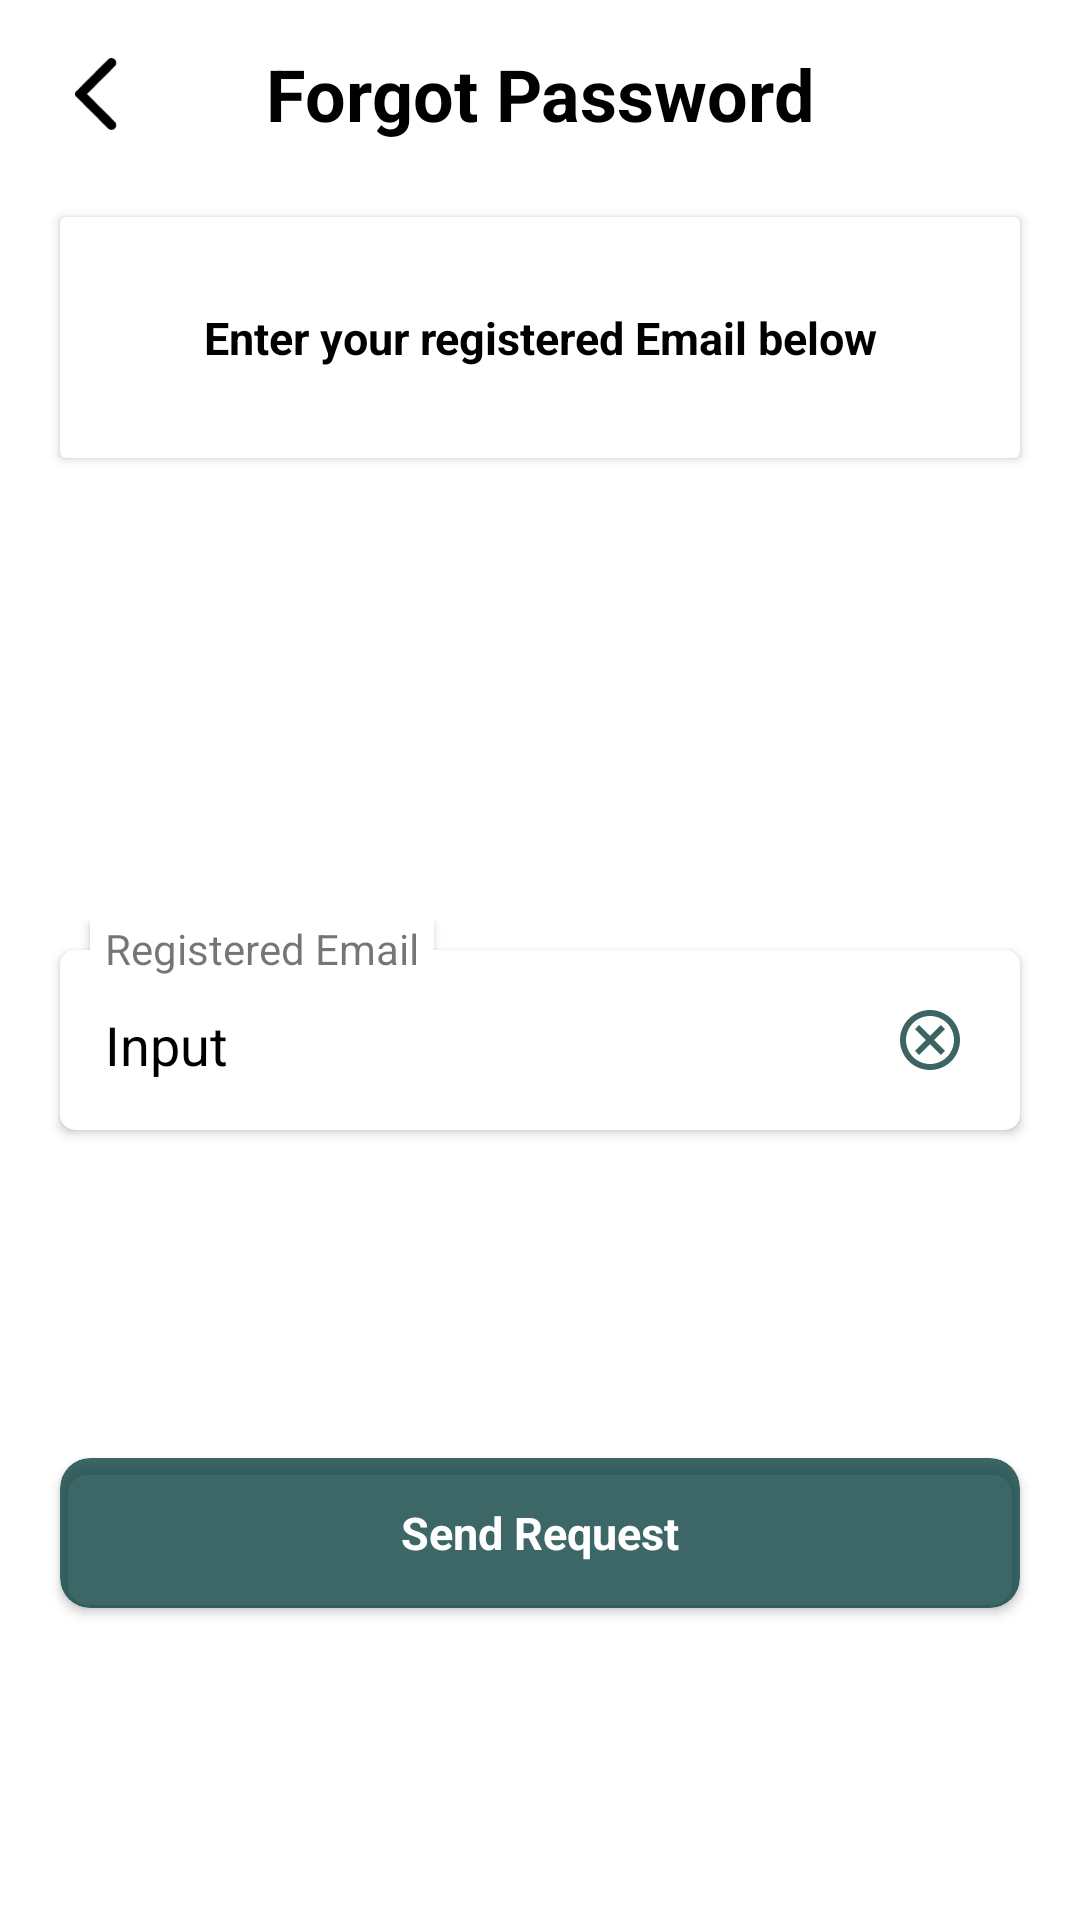

Icon click points for this 1080px x 1920px phone screenshot, format (x=x, y=y):
back: (x=96, y=94)
cross: (x=930, y=1040)
